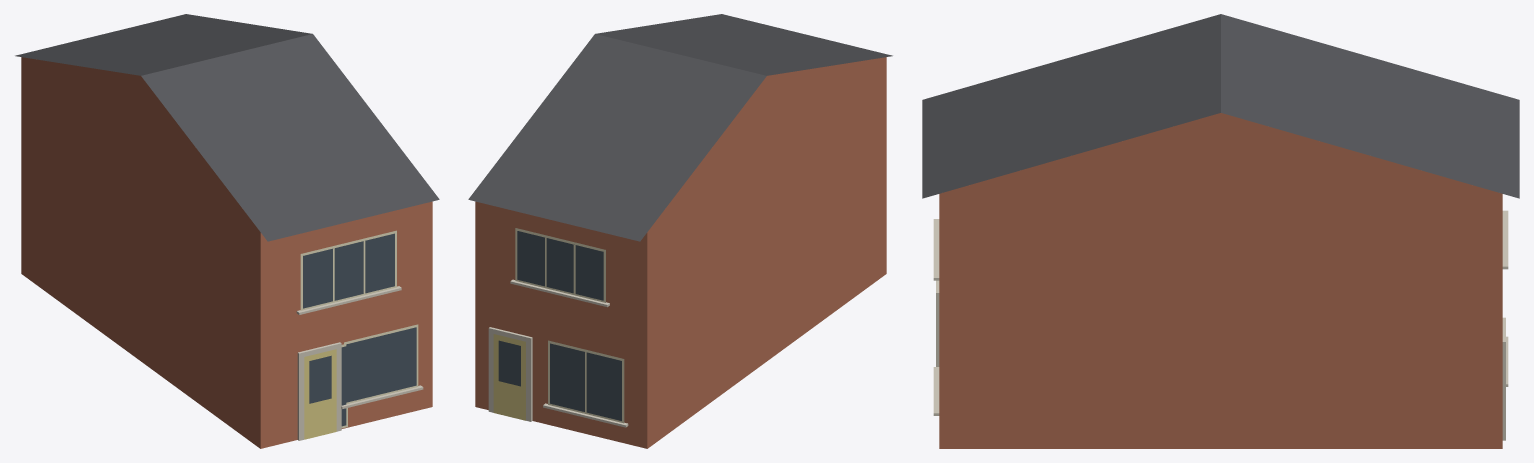
File: zo-vw-row__cream-door__2__gable__long__solid.glb
3 renders of one model, left to right at view 1: azimuth 30°, elevation 25°; view 2: azimuth 150°, elevation 25°; view 3: azimuth 270°, elevation 25°, orthographic. The views are drawn at different scales.
Parts seen in each view (by area): view 1: zo-vw-row__cream-door__2__gable__long__solid; view 2: zo-vw-row__cream-door__2__gable__long__solid; view 3: zo-vw-row__cream-door__2__gable__long__solid.
Boxes of the visible parts, x1,y1,x2,y2 form: zo-vw-row__cream-door__2__gable__long__solid: (15, 14, 439, 448); zo-vw-row__cream-door__2__gable__long__solid: (468, 14, 892, 448); zo-vw-row__cream-door__2__gable__long__solid: (922, 14, 1519, 448).
Size of the model in its own units: 4.78 by 7.58 by 12.21.
